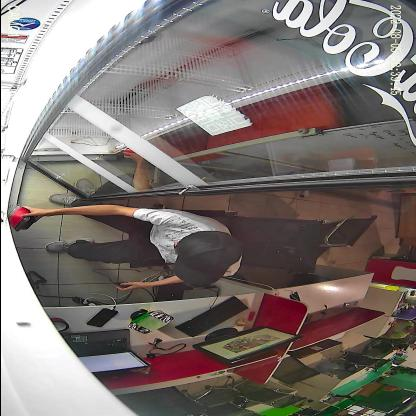red: (6, 204, 34, 232)
